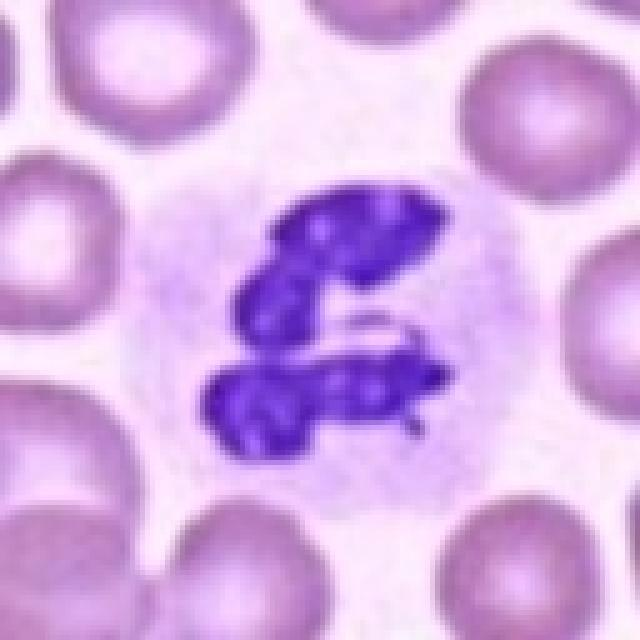neutro: (104, 145, 534, 537)
